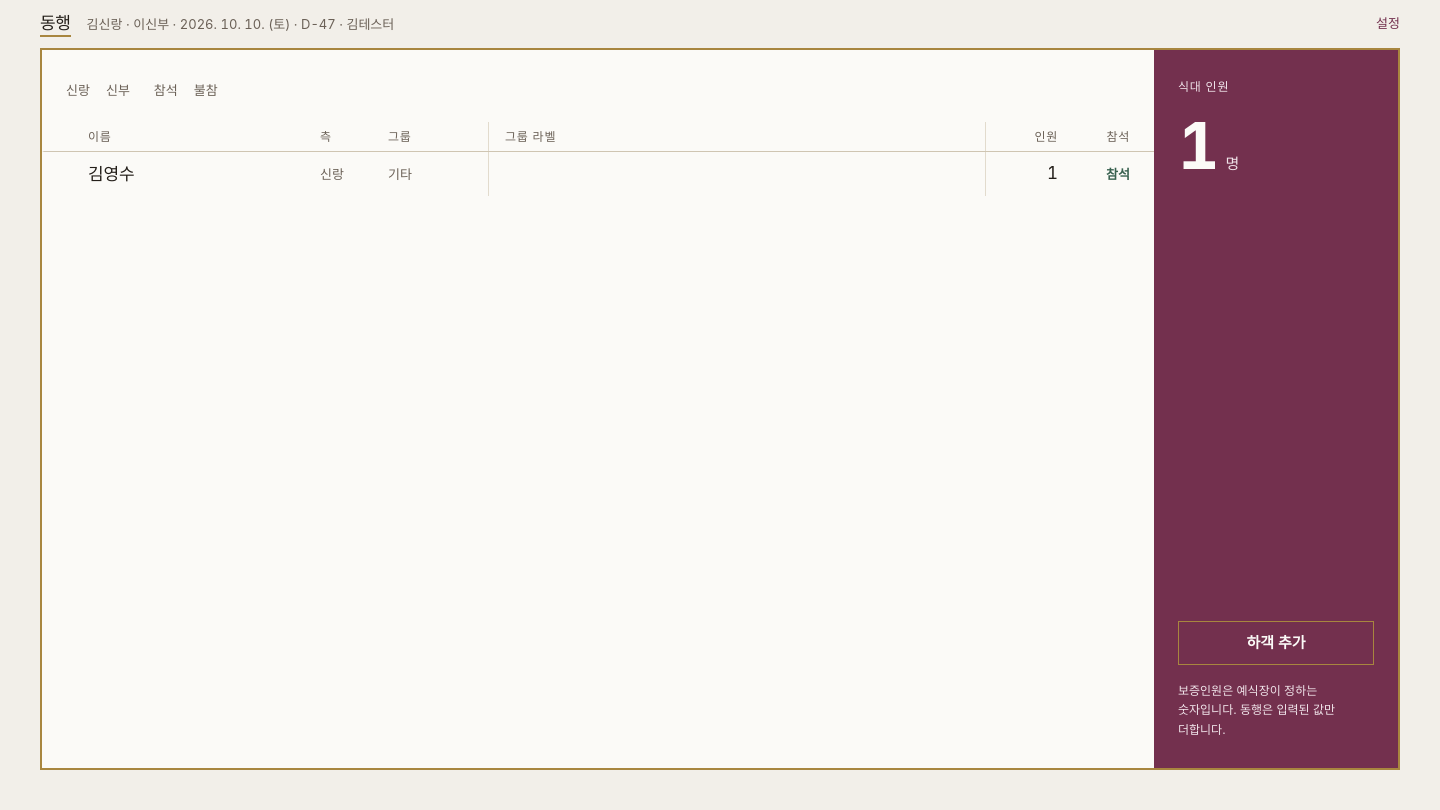
Test: never leaves a filter at a dead end
The image size is (1440, 810).
expect the text "김영수" is shown: met, box [88,164,134,184]
Click the button "신부".
click(118, 90)  # box [106,74,130,106]
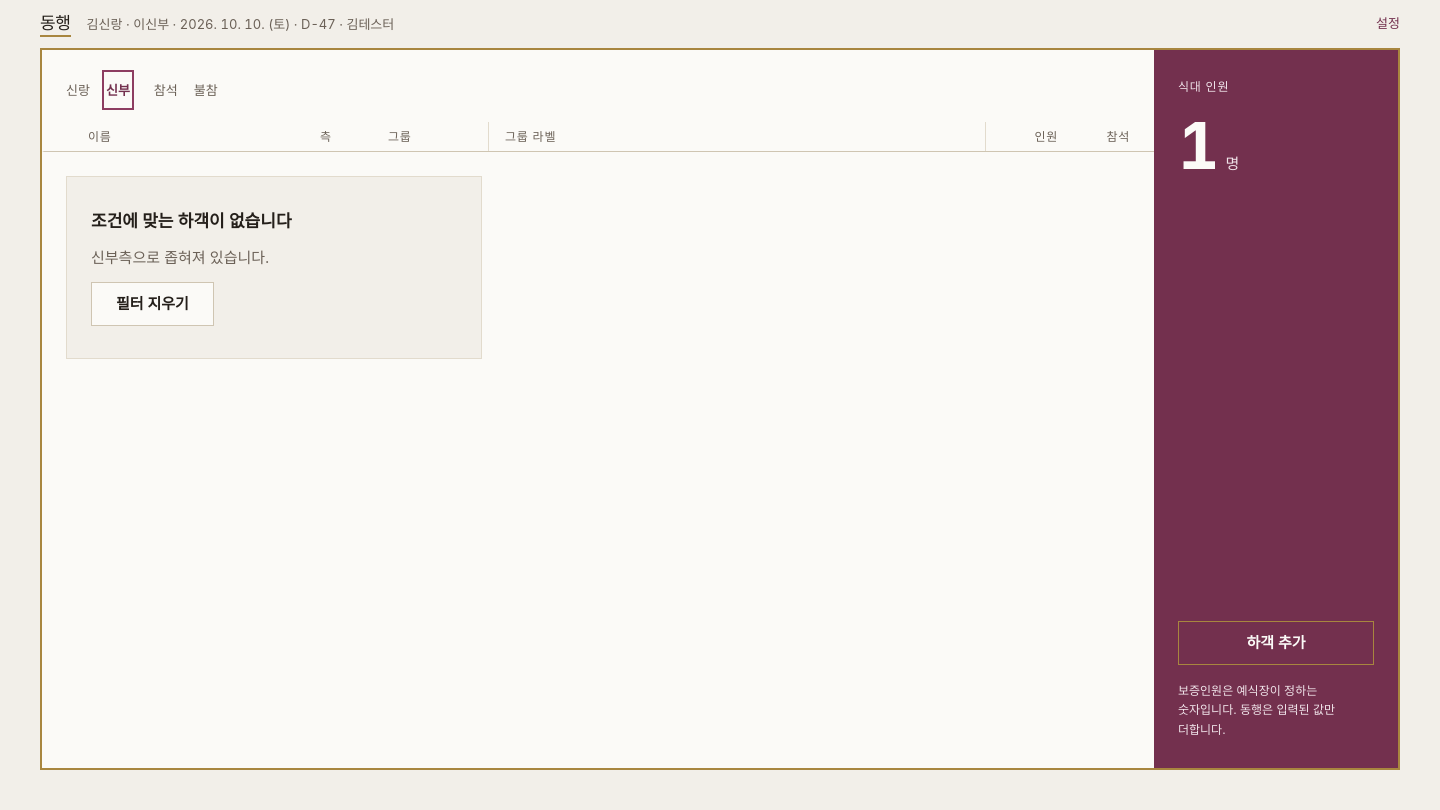
expect the heading "조건에 맞는 하객이 없습니다" is shown: met, box [91,209,292,234]
expect the text "신부측으로 좁혀져 있습니다." is shown: met, box [91,246,269,270]
Click the button "필터 지우기".
click(152, 304)  # box [91,282,214,326]
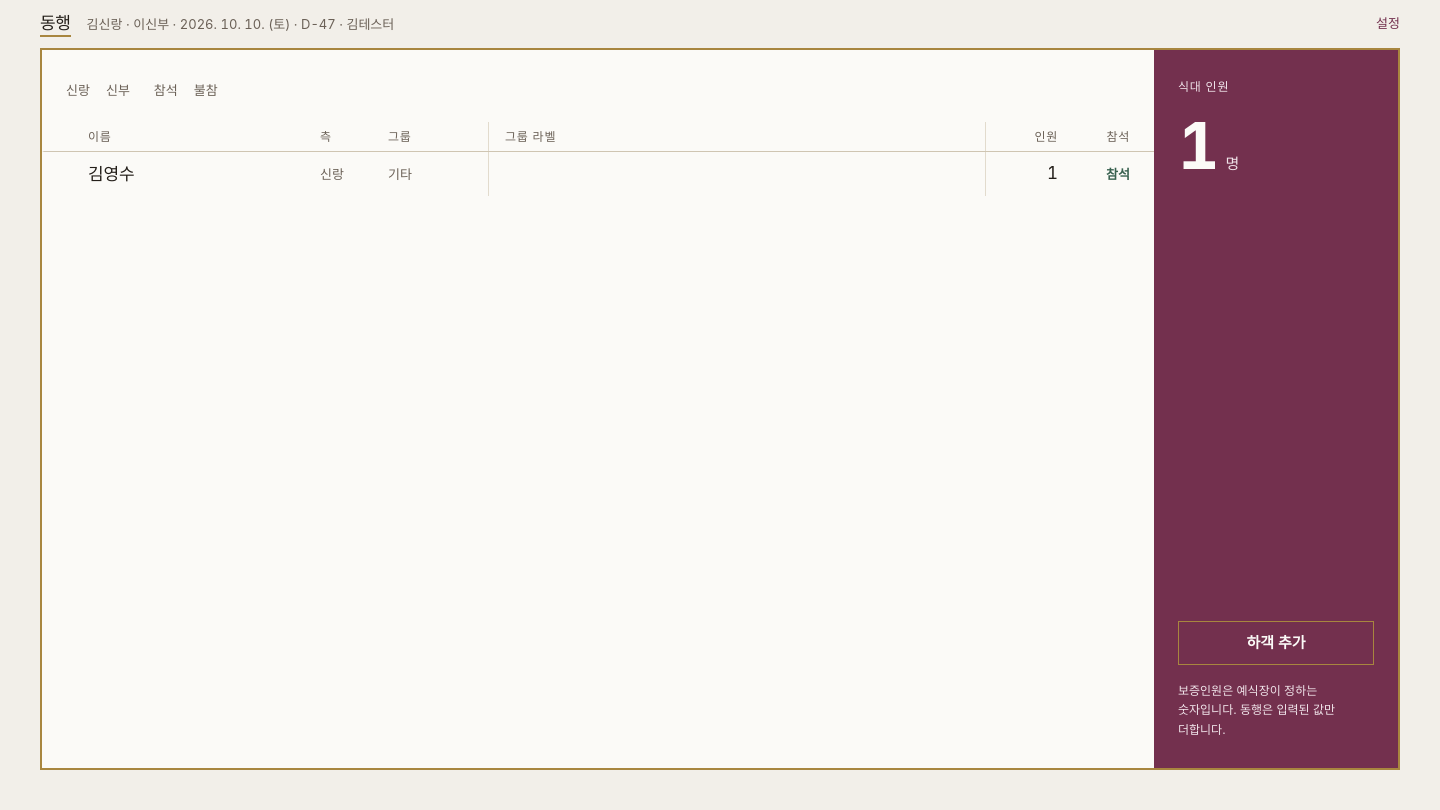
expect the text with test id "guest-name" reads "김영수": met, box [88,164,134,184]
